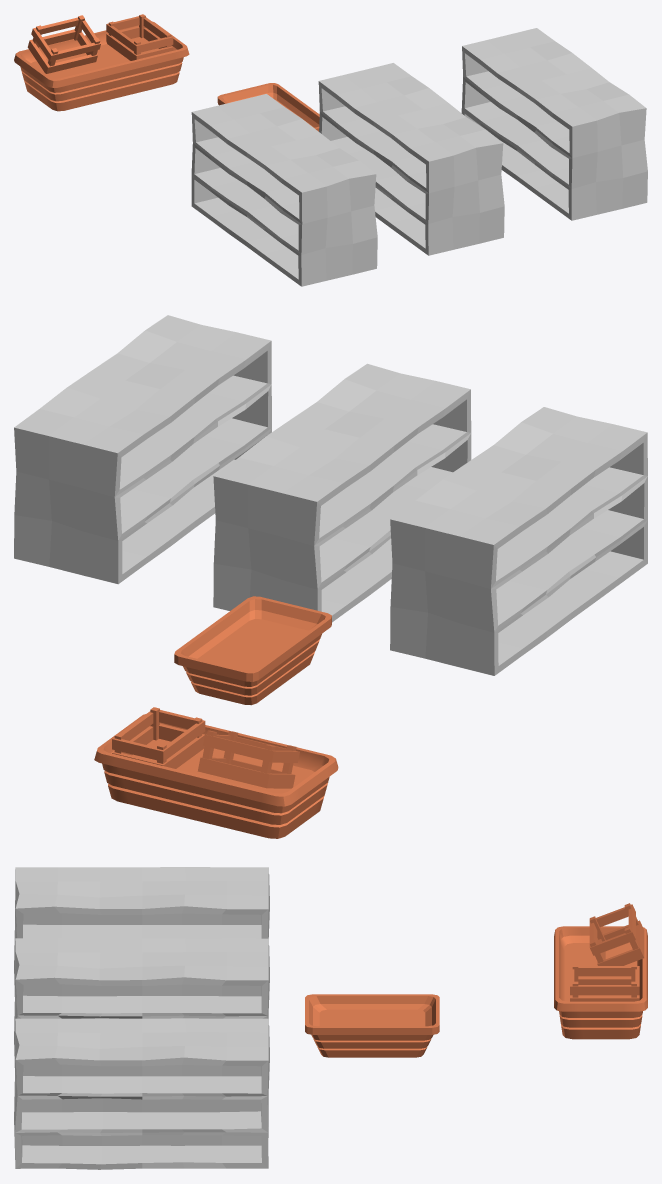
The model's file is Shop_Furniture_1.glb.
3 renders of one model, top to bottom at view 1: azimuth 30°, elevation 25°; view 2: azimuth 150°, elevation 25°; view 3: azimuth 270°, elevation 25°, orthographic. The views are drawn at different scales.
Visible parts, largest first — view 1: store shelf.001, store shelf.003, store shelf.002, fruit_box_large.001, box 2.001, Box.001, fruit_box.002; view 2: store shelf.001, store shelf.003, store shelf.002, fruit_box_large.001, fruit_box.002, Box.001, box 2.001; view 3: store shelf.003, store shelf.002, store shelf.001, fruit_box.002, fruit_box_large.001, Box.001, box 2.001.
Boxes of the visible parts, bbox=[...] form: store shelf.001: bbox=[191, 94, 377, 286]; store shelf.003: bbox=[461, 28, 647, 220]; store shelf.002: bbox=[318, 63, 504, 255]; fruit_box_large.001: bbox=[14, 21, 189, 111]; box 2.001: bbox=[27, 15, 100, 73]; Box.001: bbox=[106, 14, 173, 60]; fruit_box.002: bbox=[217, 83, 319, 131]; store shelf.001: bbox=[390, 407, 647, 675]; store shelf.003: bbox=[14, 315, 271, 584]; store shelf.002: bbox=[213, 363, 471, 622]; fruit_box_large.001: bbox=[94, 714, 338, 838]; fruit_box.002: bbox=[174, 596, 331, 705]; Box.001: bbox=[112, 707, 205, 768]; box 2.001: bbox=[197, 730, 299, 788]; store shelf.003: bbox=[14, 1018, 269, 1169]; store shelf.002: bbox=[14, 938, 269, 1067]; store shelf.001: bbox=[14, 867, 269, 996]; fruit_box.002: bbox=[305, 994, 439, 1057]; fruit_box_large.001: bbox=[554, 926, 647, 1039]; Box.001: bbox=[570, 964, 639, 1001]; box 2.001: bbox=[589, 903, 644, 965].
Size of the model in its own units: 8.18 by 2.08 by 10.79.
